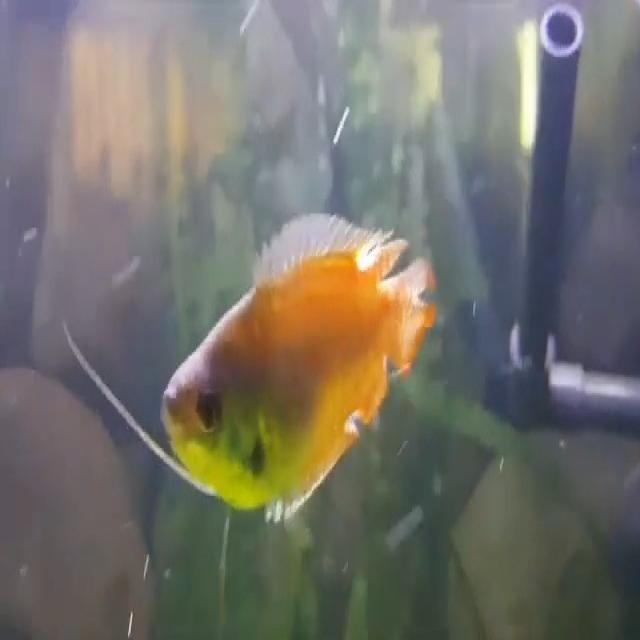fish: (157, 207, 440, 528)
